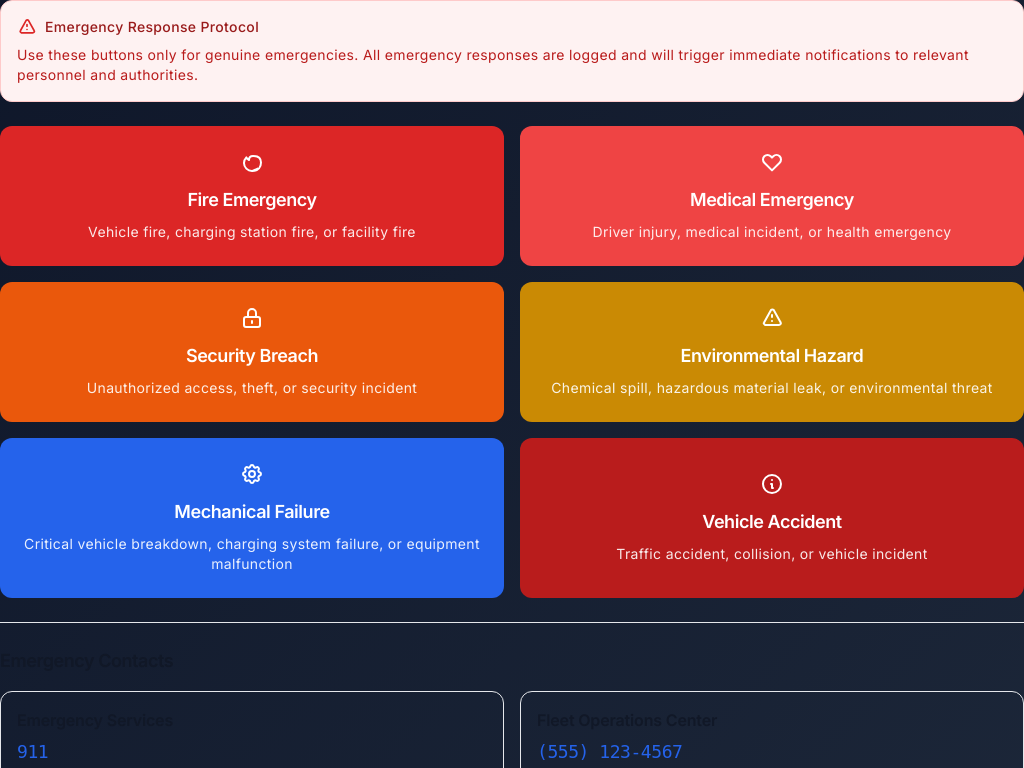
Test case: EmergencyResponsePanel › shows confirmation warning in modal
The image size is (1024, 768).
Click the heading "Environmental Hazard".
click(772, 356)  # box x1=681 y1=345 x2=863 y2=366
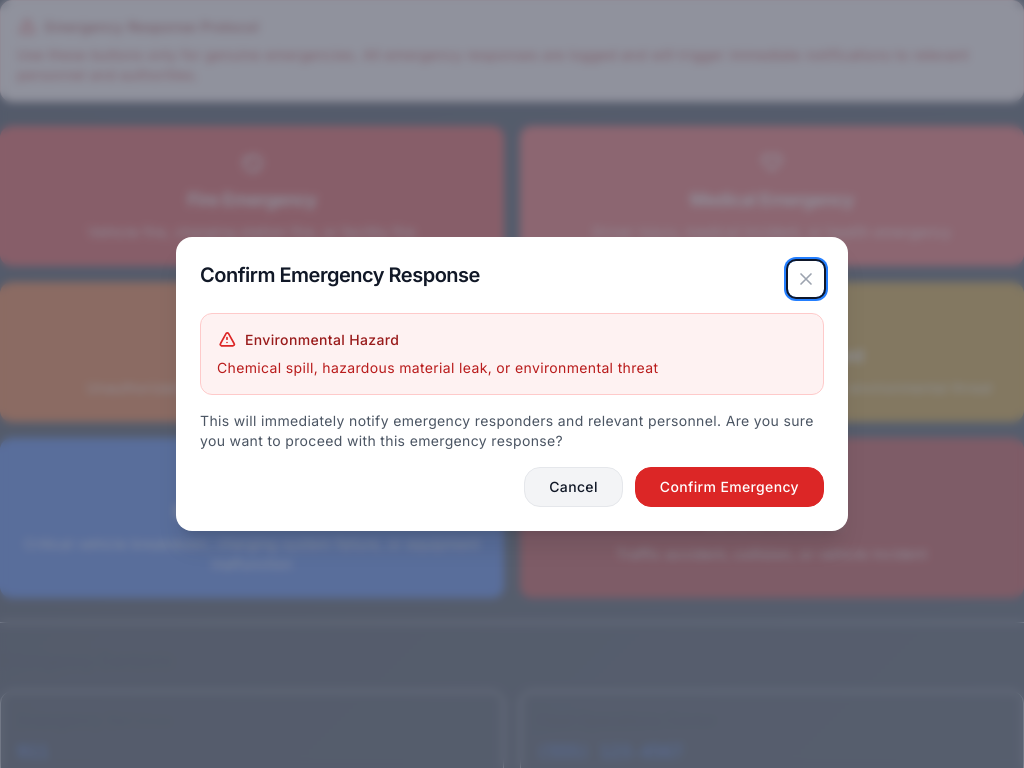
Expected: the text "This will immediately notify emergency responders" is shown, x1=200 y1=412 x2=814 y2=449
